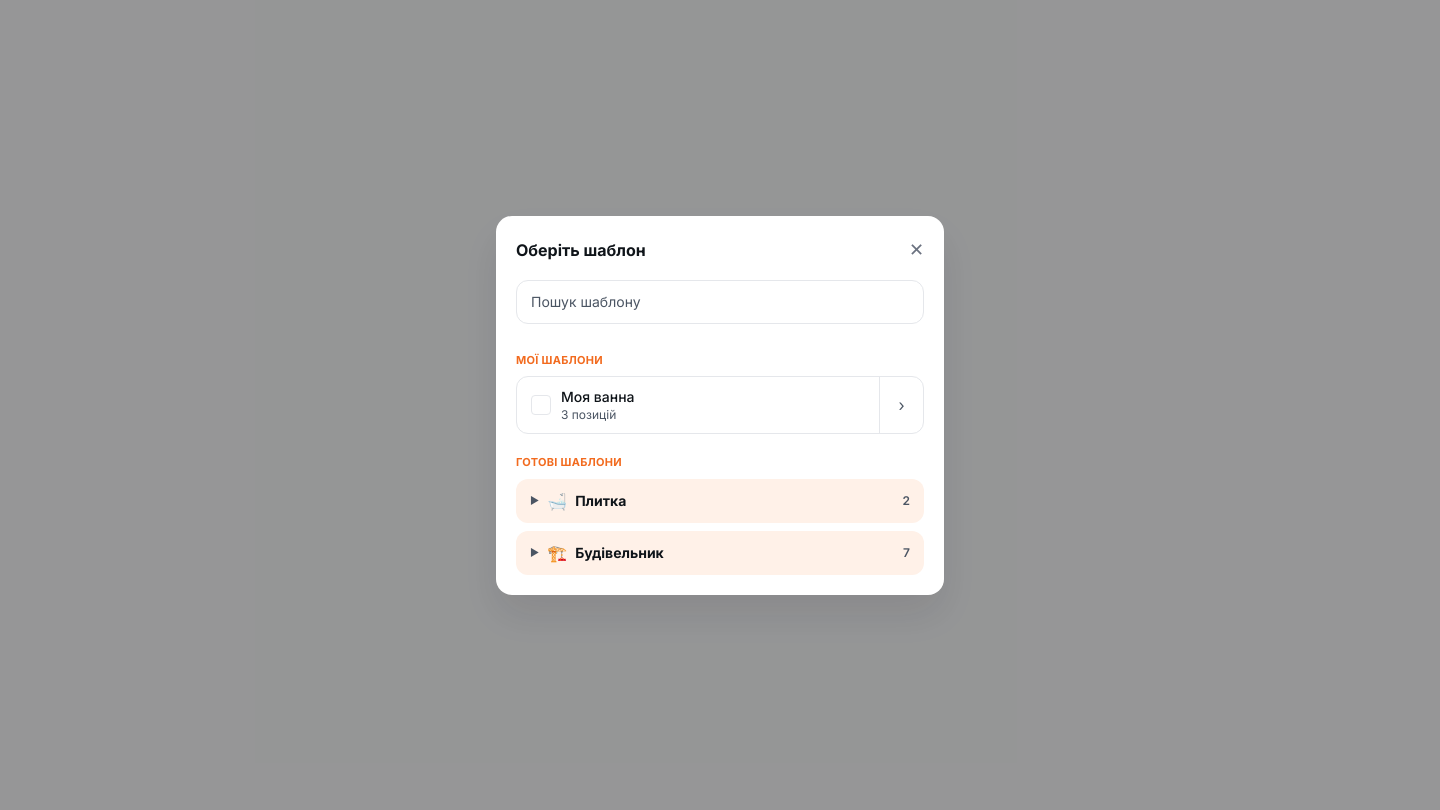
Test case: TemplatePickerSheet — trade is the top level › names each trade above its bundles, in the library order, and opens on the TRADES
Check: the button with test id "template-trade" shows "Плитка", box [516,478,924,522]
Check: the text "Кладка 0" is not shown
What coordinates should you click on to do the following:
click the button with test id "template-trade" showing "▶ 🏗️ Будівельник 7"
I would click on:
 (619, 552)
Its box is [516,530,924,574].
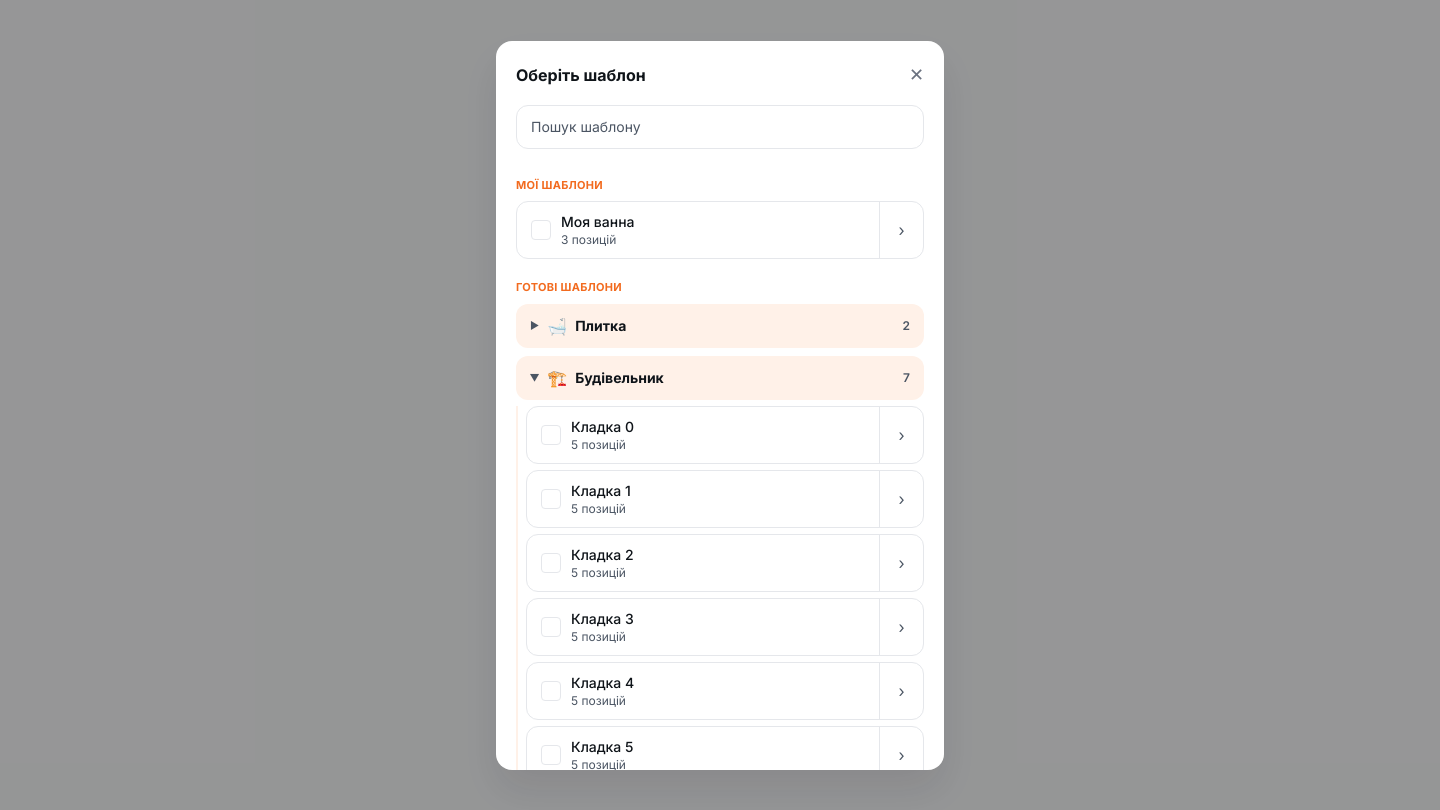
Check: the text "Кладка 0" is shown, box [571,418,634,434]
